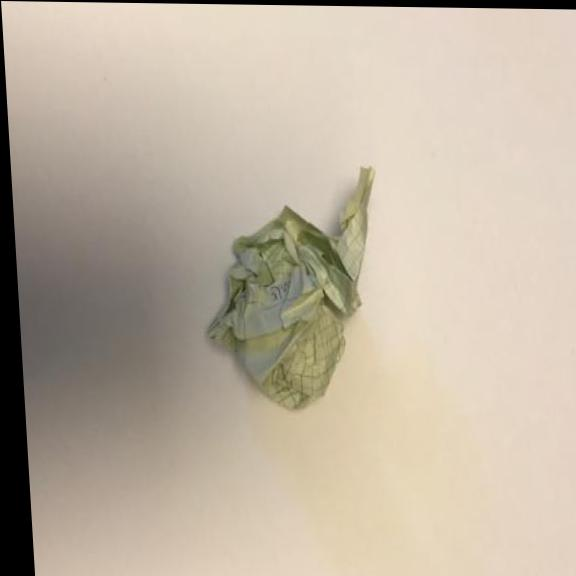Kertas: (190, 149, 395, 418)
